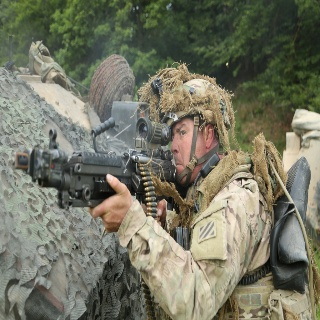rifle: (6, 116, 181, 212)
